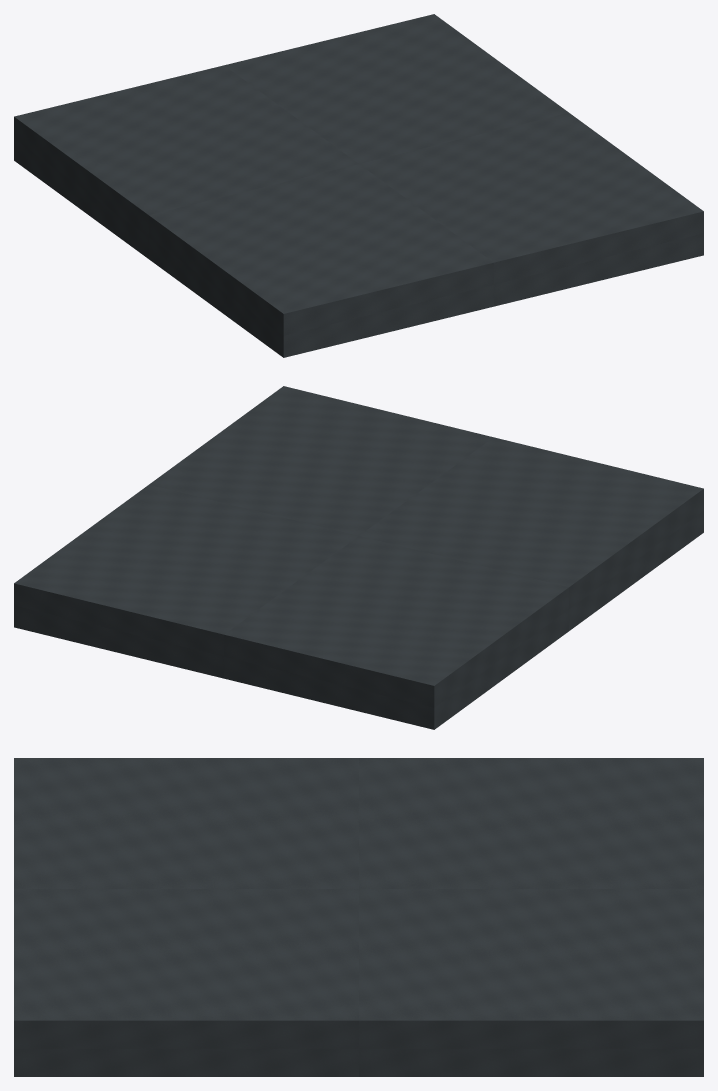
Rendered from Rail_Straight_Collision.glb.
3 renders of one model, top to bottom at view 1: azimuth 30°, elevation 25°; view 2: azimuth 150°, elevation 25°; view 3: azimuth 270°, elevation 25°, orthographic. The views are drawn at different scales.
Visible parts, largest first — view 1: COL_TrackBed; view 2: COL_TrackBed; view 3: COL_TrackBed.
Boxes of the visible parts, x1,y1,x2,y2 form: COL_TrackBed: (14, 14, 703, 357); COL_TrackBed: (14, 386, 703, 729); COL_TrackBed: (14, 758, 703, 1076).
Size of the model in its own units: 0.9 by 0.09 by 1.
1 material, 1 textured.
